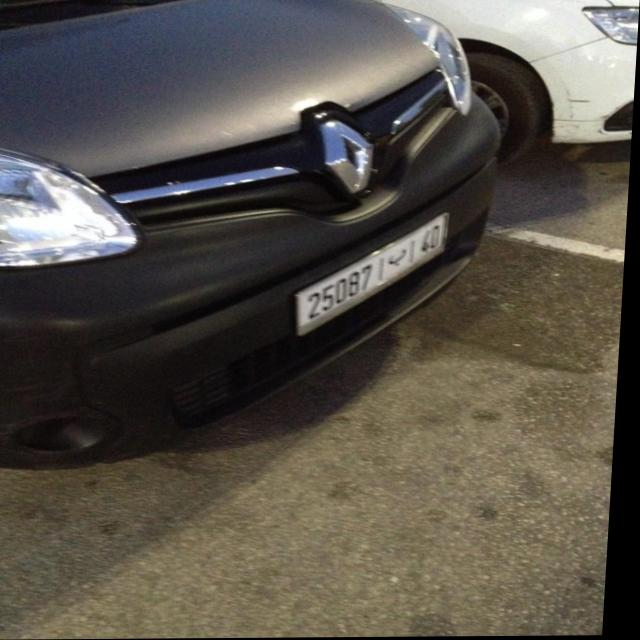License-Plate: (300, 214, 452, 335)
